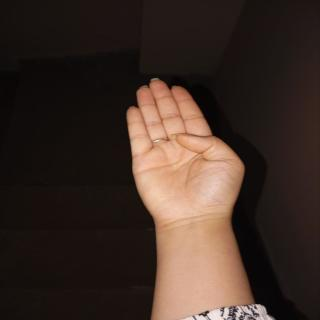KAAF: (116, 71, 262, 233)
